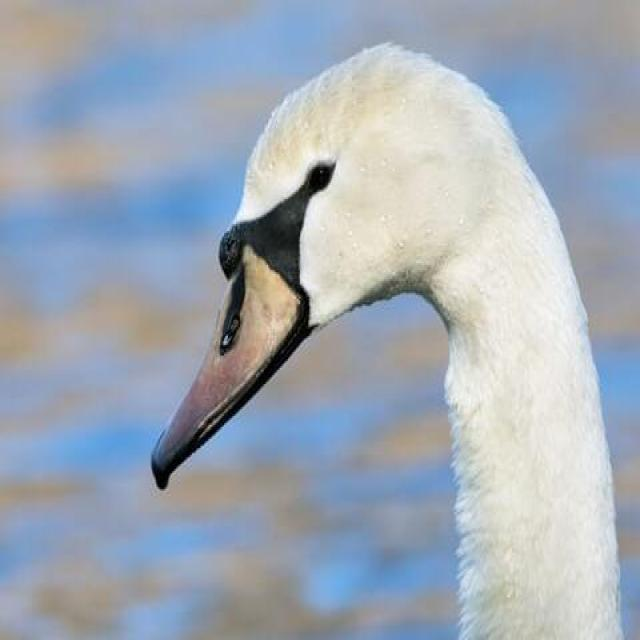swan: (152, 44, 621, 638)
